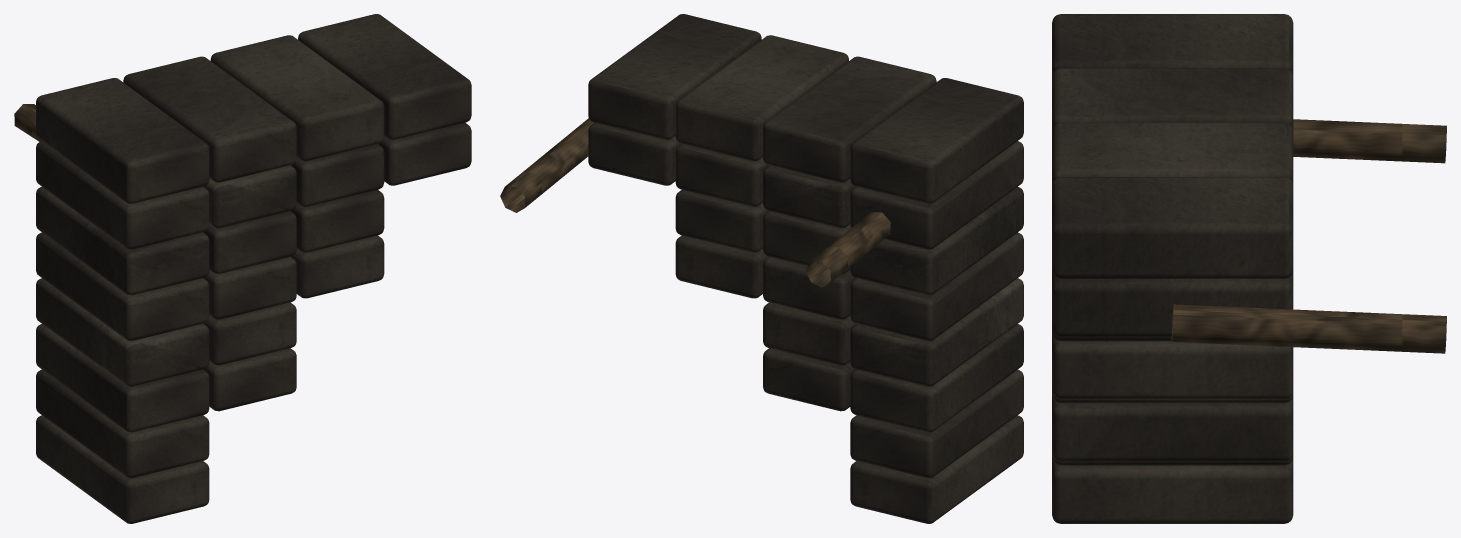
File: C15_broken_bridge_end.gltf
The picture shows the model from 3 angles, left to right: view 1: azimuth 30°, elevation 25°; view 2: azimuth 150°, elevation 25°; view 3: azimuth 270°, elevation 25°; orthographic projection. The views are drawn at different scales.
Visible parts, largest first — view 1: Fractured bridge stone, Fractured bridge stone.002, Fractured bridge stone.001, Fractured bridge stone.003, Fractured bridge stone.018, Fractured bridge stone.004, Fractured bridge stone.008, Fractured bridge stone.016, Fractured bridge stone.019, Fractured bridge stone.011, Fractured bridge stone.014, Fractured bridge stone.013 (+9 smaller); view 2: Fractured bridge stone, Fractured bridge stone.002, Fractured bridge stone.001, Fractured bridge stone.003, Fractured bridge stone.016, Fractured bridge stone.011, Fractured bridge stone.018, Fractured bridge stone.019, Fractured bridge stone.014, Fractured bridge stone.008, Fractured bridge stone.004, Fractured bridge stone.005 (+10 smaller); view 3: Fractured bridge stone.003, Fractured bridge stone.019, Fractured bridge stone.017, Fractured bridge stone.013, Fractured bridge stone, Fractured bridge stone.002, Fractured bridge stone.001, Fractured bridge stone.007, Broken timber spine.001, Broken timber spine, Fractured bridge stone.015, Fractured bridge stone.018 (+1 smaller).
Part boxes in pixels (x1,y1,x2,y2): Fractured bridge stone: [36, 78, 209, 203]; Fractured bridge stone.002: [210, 35, 384, 161]; Fractured bridge stone.001: [123, 56, 296, 182]; Fractured bridge stone.003: [298, 14, 471, 139]; Fractured bridge stone.018: [36, 369, 209, 478]; Fractured bridge stone.004: [36, 141, 209, 249]; Fractured bridge stone.008: [36, 187, 209, 295]; Fractured bridge stone.016: [36, 324, 209, 432]; Fractured bridge stone.019: [36, 415, 209, 523]; Fractured bridge stone.011: [36, 232, 209, 340]; Fractured bridge stone.014: [36, 278, 209, 386]; Fractured bridge stone.013: [291, 235, 384, 298]; Fractured bridge stone: [850, 78, 1023, 203]; Fractured bridge stone.002: [675, 35, 848, 161]; Fractured bridge stone.001: [763, 56, 936, 182]; Fractured bridge stone.003: [588, 14, 761, 139]; Fractured bridge stone.016: [850, 324, 1023, 432]; Fractured bridge stone.011: [850, 232, 1023, 340]; Fractured bridge stone.018: [850, 369, 1023, 478]; Fractured bridge stone.019: [850, 415, 1023, 523]; Fractured bridge stone.014: [850, 278, 1023, 386]; Fractured bridge stone.008: [850, 186, 1023, 295]; Fractured bridge stone.004: [850, 141, 1023, 249]; Fractured bridge stone.005: [763, 165, 855, 228]; Fractured bridge stone.003: [1052, 177, 1293, 278]; Fractured bridge stone.019: [1052, 457, 1293, 523]; Fractured bridge stone.017: [1052, 395, 1293, 461]; Fractured bridge stone.013: [1052, 333, 1293, 399]; Fractured bridge stone: [1052, 14, 1293, 76]; Fractured bridge stone.002: [1052, 122, 1293, 185]; Fractured bridge stone.001: [1052, 68, 1293, 130]; Fractured bridge stone.007: [1052, 271, 1293, 337]; Broken timber spine.001: [1171, 304, 1446, 353]; Broken timber spine: [1293, 119, 1446, 163]; Fractured bridge stone.015: [1052, 391, 1293, 403]; Fractured bridge stone.018: [1052, 453, 1293, 465].
Size of the model in its own units: 3.4 by 3.18 by 2.46.
3 materials, 3 textured.
